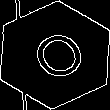O_SE: (20, 22, 90, 88)
